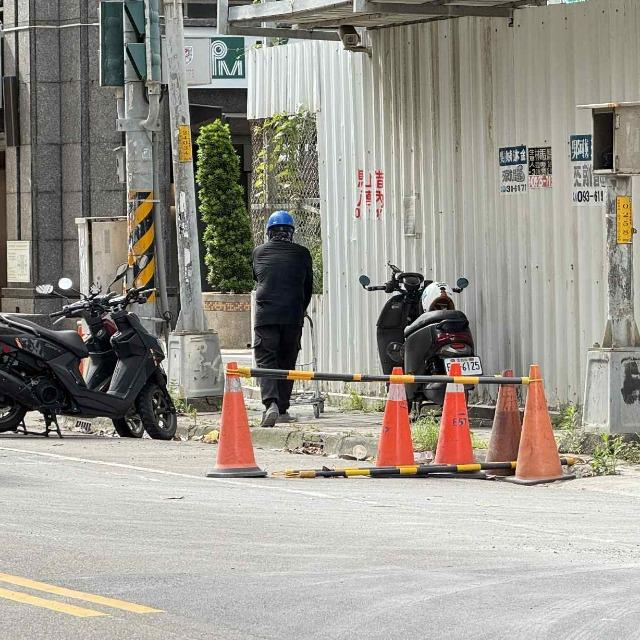NoVest: (253, 241, 316, 326)
